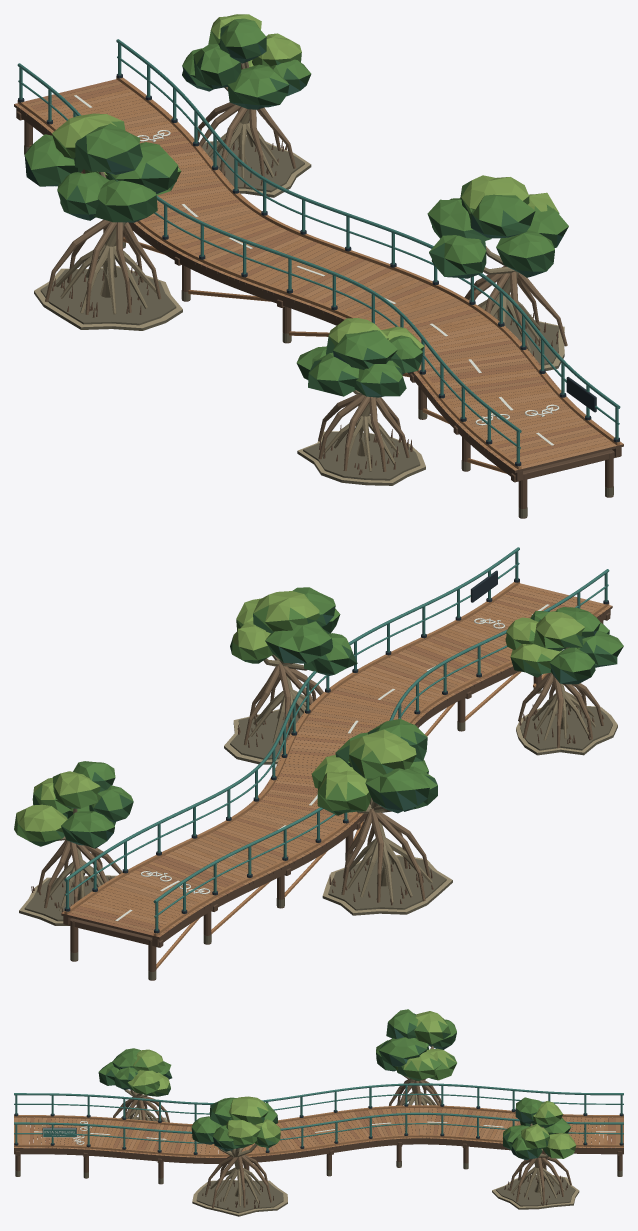
3 views of the same model, one above another, from view 1: azimuth 30°, elevation 25°; view 2: azimuth 150°, elevation 25°; view 3: azimuth 270°, elevation 25° (orthographic). The views are drawn at different scales.
Parts seen in each view (by area): view 1: Replaceable deck boards, Layered tree crowns, Mud hummocks, Flying prop roots, Rail courses, Toe boards, Prop roots, Rail posts, Outside stringers, Driven piles, Branch framework, Pile caps (+3 smaller); view 2: Replaceable deck boards, Layered tree crowns, Mud hummocks, Flying prop roots, Rail courses, Toe boards, Prop roots, Rail posts, Outside stringers, Driven piles, Sway braces, Branch framework (+3 smaller); view 3: Layered tree crowns, Replaceable deck boards, Rail courses, Mud hummocks, Toe boards, Flying prop roots, Outside stringers, Prop roots, Rail posts, Driven piles, Branch framework, Rail sockets (+2 smaller).
Boxes of the visible parts, x1,y1,x2,y2 form: Replaceable deck boards: (14,77,623,472); Layered tree crowns: (24,14,568,397); Mud hummocks: (34,135,564,485); Flying prop roots: (45,102,567,471); Rail courses: (17,39,620,448); Toe boards: (17,76,620,469); Prop roots: (55,122,541,471); Rail posts: (19,43,618,463); Outside stringers: (16,108,621,481); Driven piles: (24,121,613,518); Branch framework: (99,61,519,456); Pile caps: (16,111,620,482); Replaceable deck boards: (61,582,612,939); Layered tree crowns: (14,587,623,848); Mud hummocks: (19,705,617,925); Flying prop roots: (37,663,603,908); Rail courses: (64,547,609,917); Toe boards: (64,581,609,936); Prop roots: (43,689,595,911); Rail posts: (66,551,607,930); Outside stringers: (63,610,610,946); Driven piles: (70,621,603,980); Sway braces: (156,671,548,969); Branch framework: (57,647,568,900); Layered tree crowns: (98,1009,576,1160); Replaceable deck boards: (14,1108,623,1159); Rail courses: (14,1083,623,1143); Mud hummocks: (120,1115,579,1216); Toe boards: (14,1105,623,1156); Flying prop roots: (113,1079,571,1208); Outside stringers: (14,1108,623,1163); Prop roots: (121,1092,564,1206); Rail posts: (15,1085,622,1152); Driven piles: (15,1145,622,1184); Branch framework: (124,1042,548,1196); Rail sockets: (14,1104,623,1154).
Bounding box in the file's own units: 13.84 × 6.28 × 32.
Materials: 17 (1 with a texture image).
